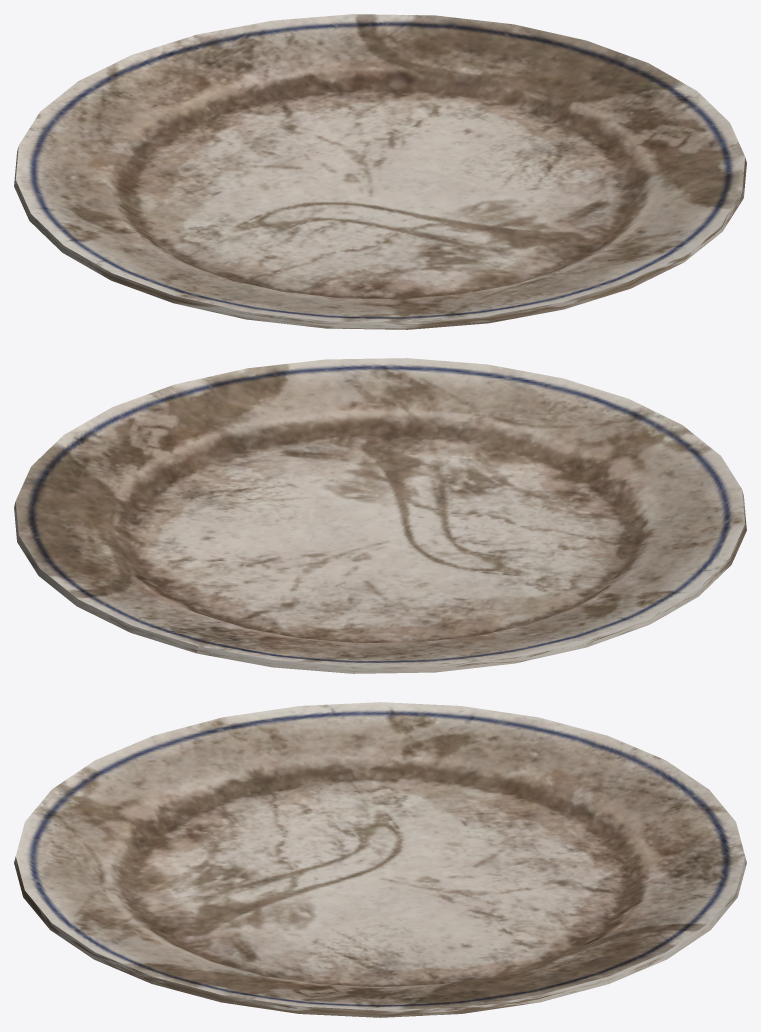
The model's file is dish01a.obj.
The picture shows the model from 3 angles, top to bottom: view 1: azimuth 30°, elevation 25°; view 2: azimuth 150°, elevation 25°; view 3: azimuth 270°, elevation 25°; orthographic projection.
Visible parts, largest first — view 1: LODGroup_1_MainMesh_1_Submesh_1; view 2: LODGroup_1_MainMesh_1_Submesh_1; view 3: LODGroup_1_MainMesh_1_Submesh_1.
Part boxes in pixels (x1,y1,x2,y2): LODGroup_1_MainMesh_1_Submesh_1: (14,14,746,329); LODGroup_1_MainMesh_1_Submesh_1: (14,358,746,673); LODGroup_1_MainMesh_1_Submesh_1: (14,702,746,1017).
Bounding box in the file's own units: 26.55 × 1.57 × 26.55.
Materials: 1 (1 with a texture image).
